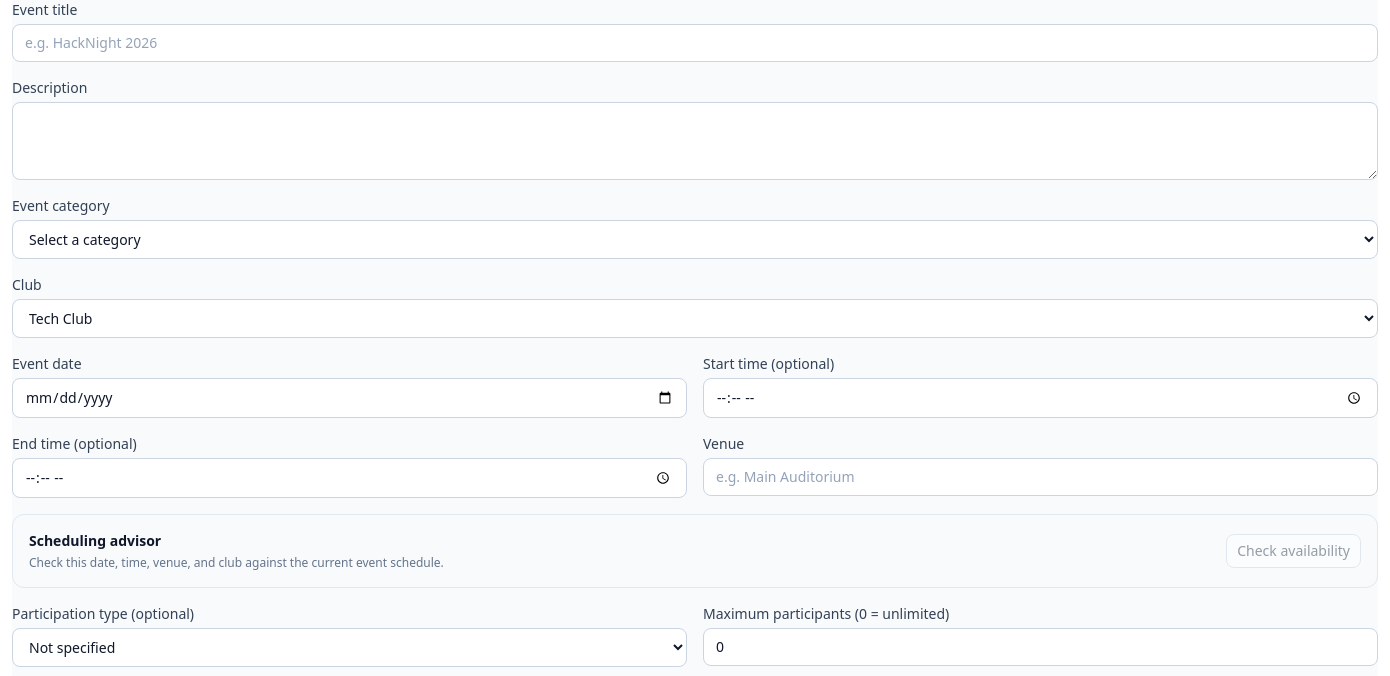
Test case: EventForm scheduling advisor › shows both the AI-verified and rule-based source labels
Type "2026-06-15" into the date field labelled "Event date".
click(350, 398); type("2026-06-15")  # box [12,378,687,418]
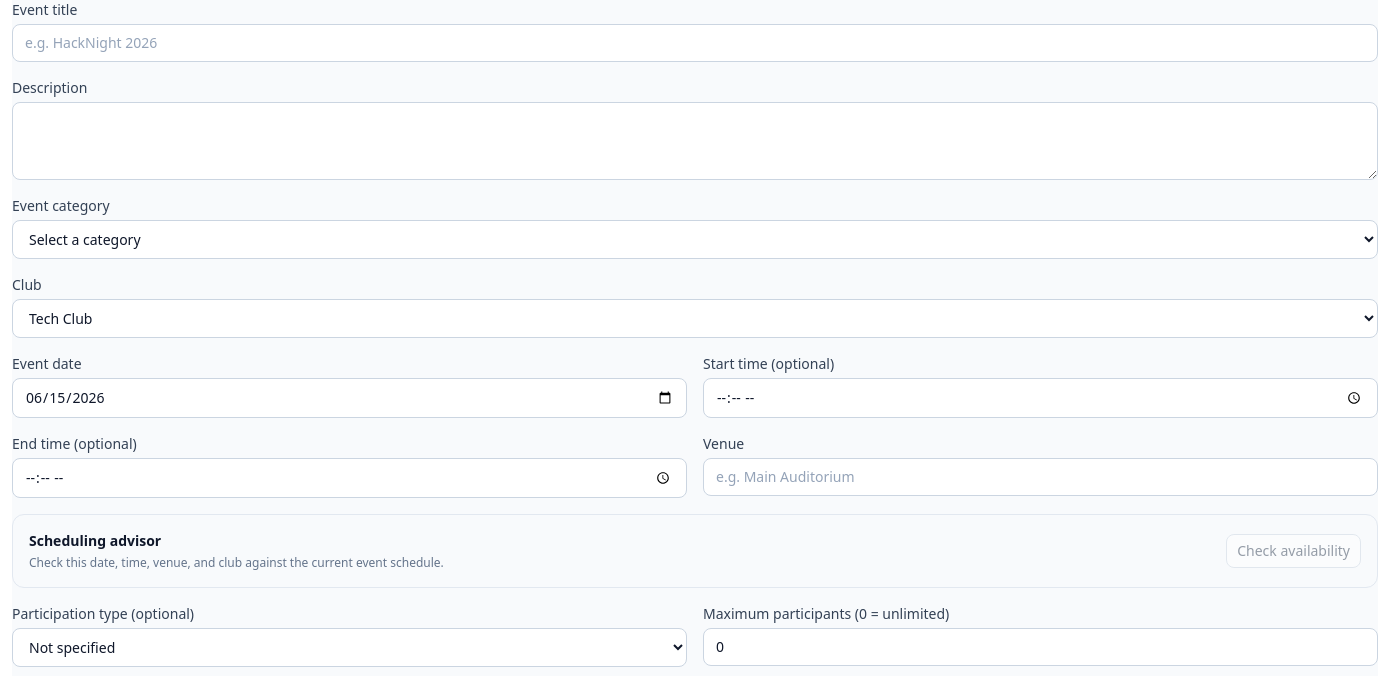
Type "10:00" into the time field labelled "Start time (optional)".
click(1040, 398); type("10:00")  # box [703,378,1378,418]
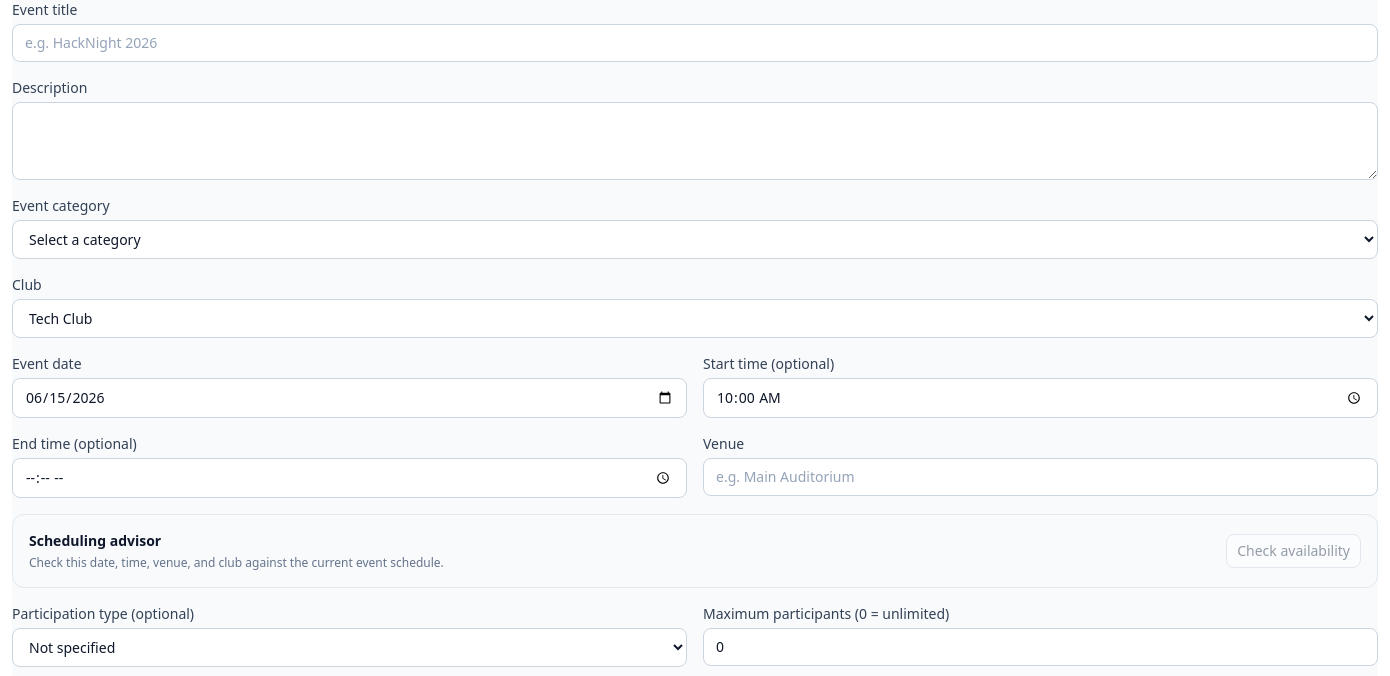
Type "11:00" into the time field labelled "End time (optional)".
click(350, 478); type("11:00")  # box [12,458,687,498]
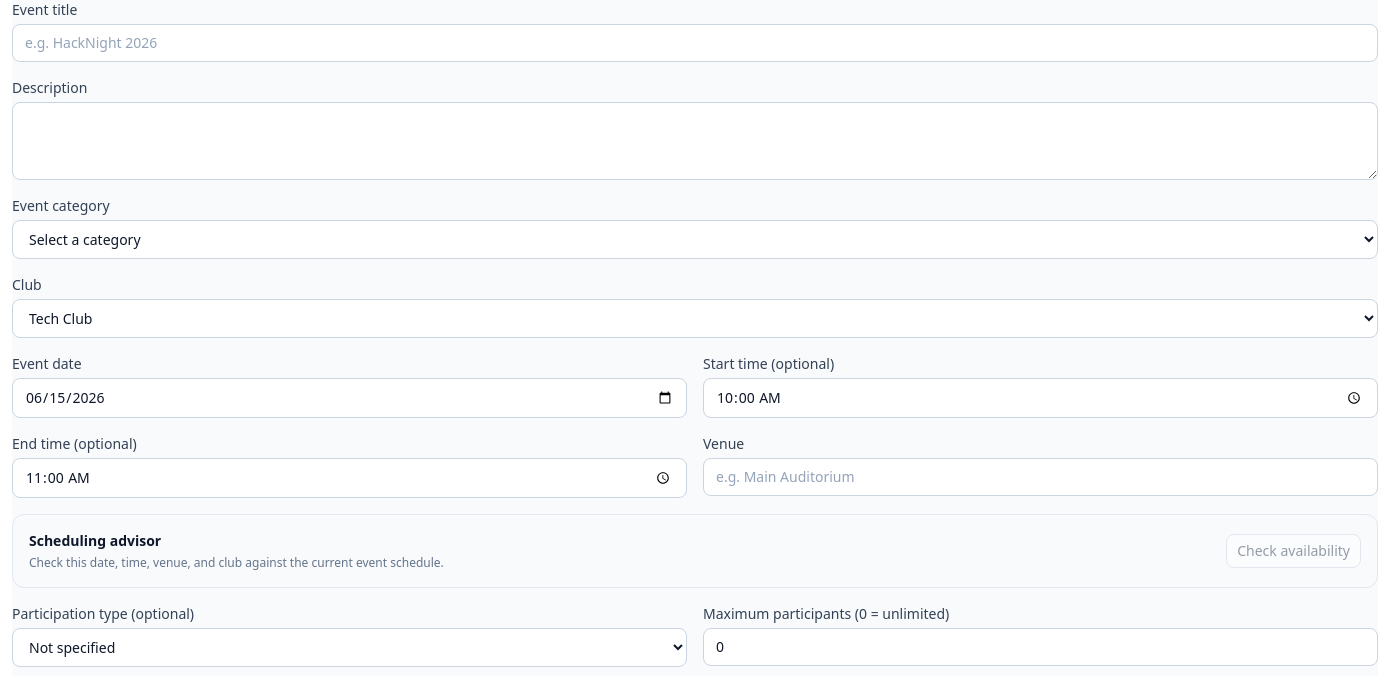
Type "Main Hall" into the field labelled "Venue".
click(1040, 477); type("Main Hall")  # box [703,458,1378,496]
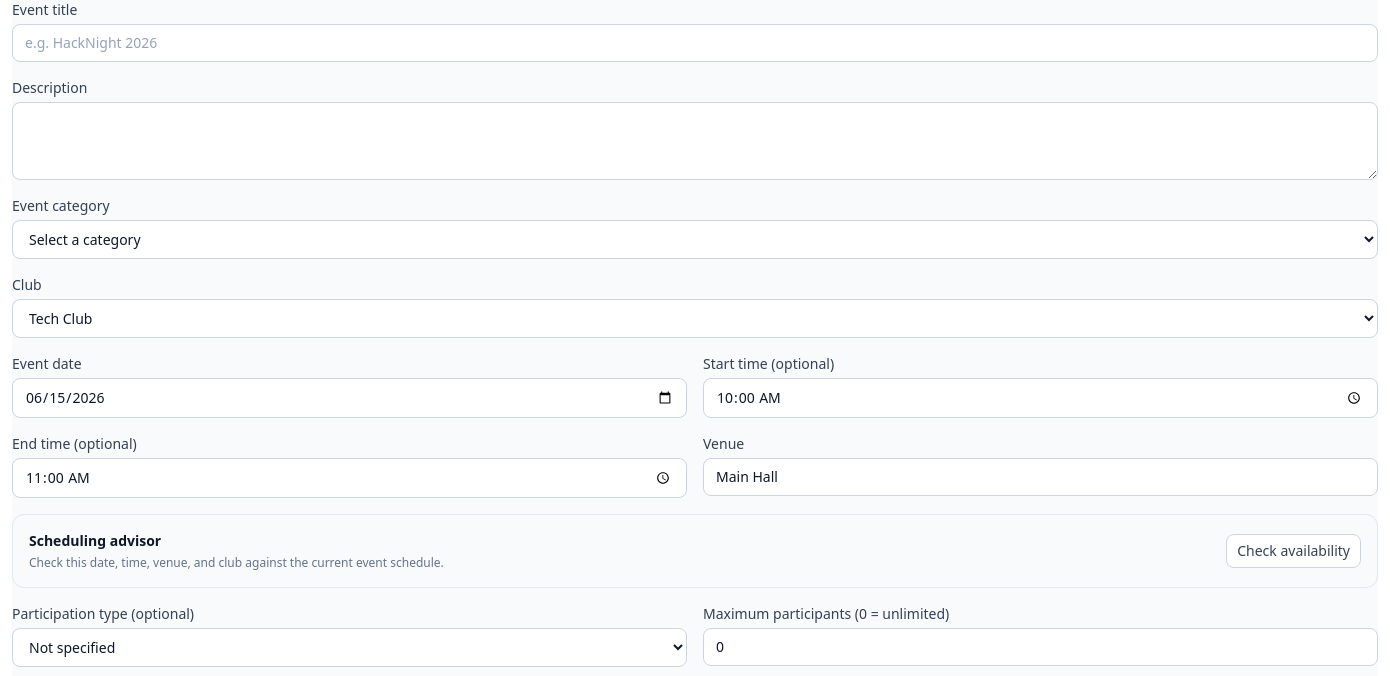
Click the button "Check availability".
click(1294, 551)  # box [1226,534,1361,568]
(page scrolled)
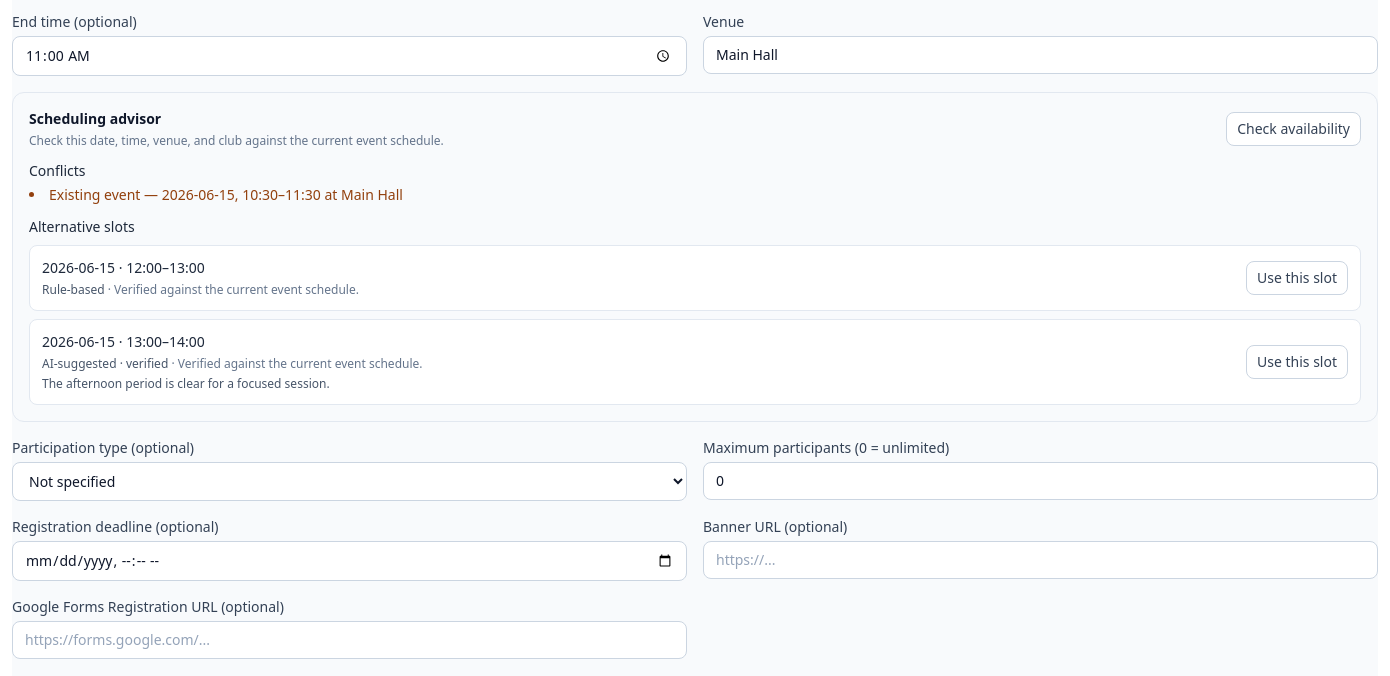
Expected: the text "Rule-based" is shown, [42,281,105,298]
Expected: the text "AI-suggested · verified" is shown, [42,355,168,372]
Expected: the text "The afternoon period is clear for a focused session." is shown, [42,375,330,392]
